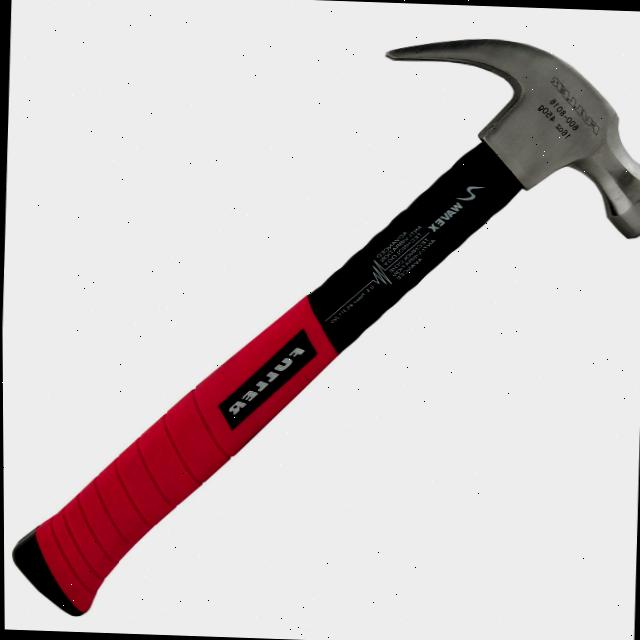hammer: (0, 14, 640, 640)
